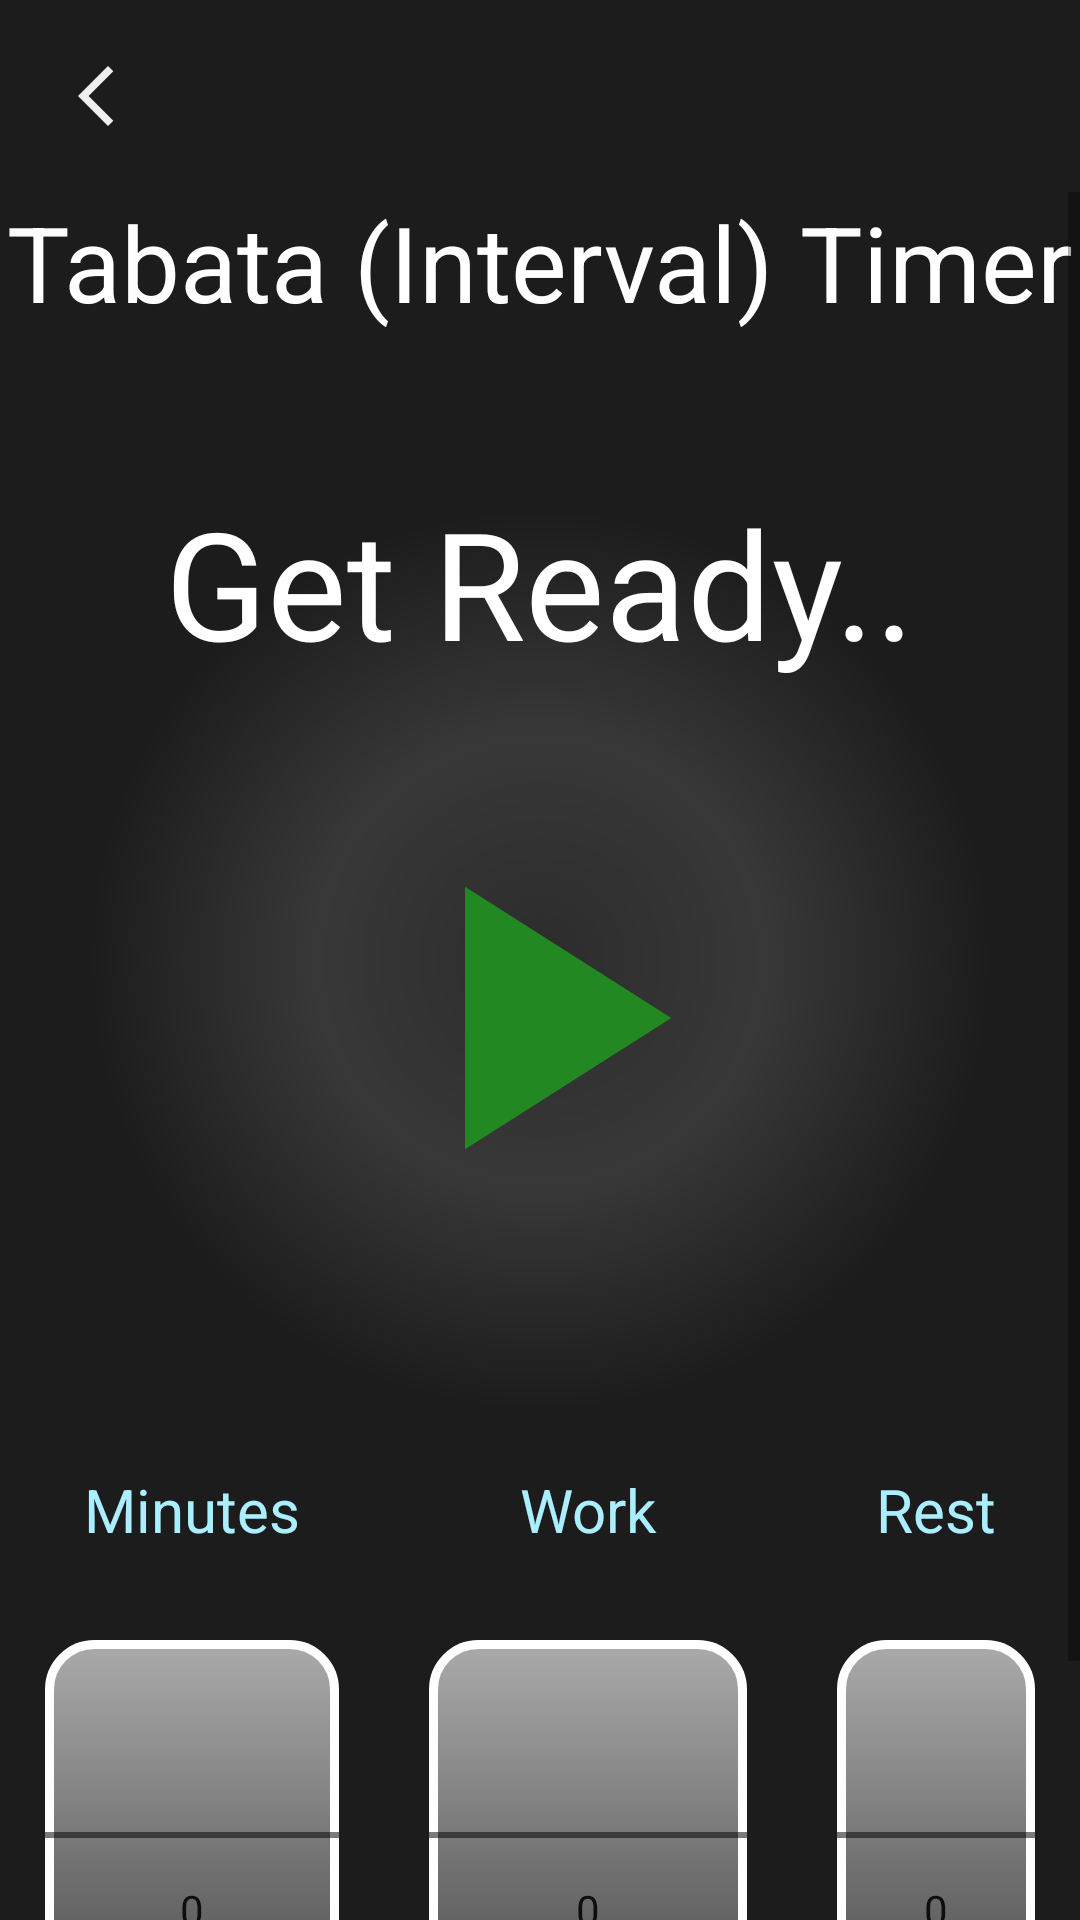

Named icons in this screenshot (1080x1920) and their bounding boxes, (x1, y1, x2, y2):
arrow back: (78, 66, 113, 126)
Continue: (465, 887, 671, 1149)
